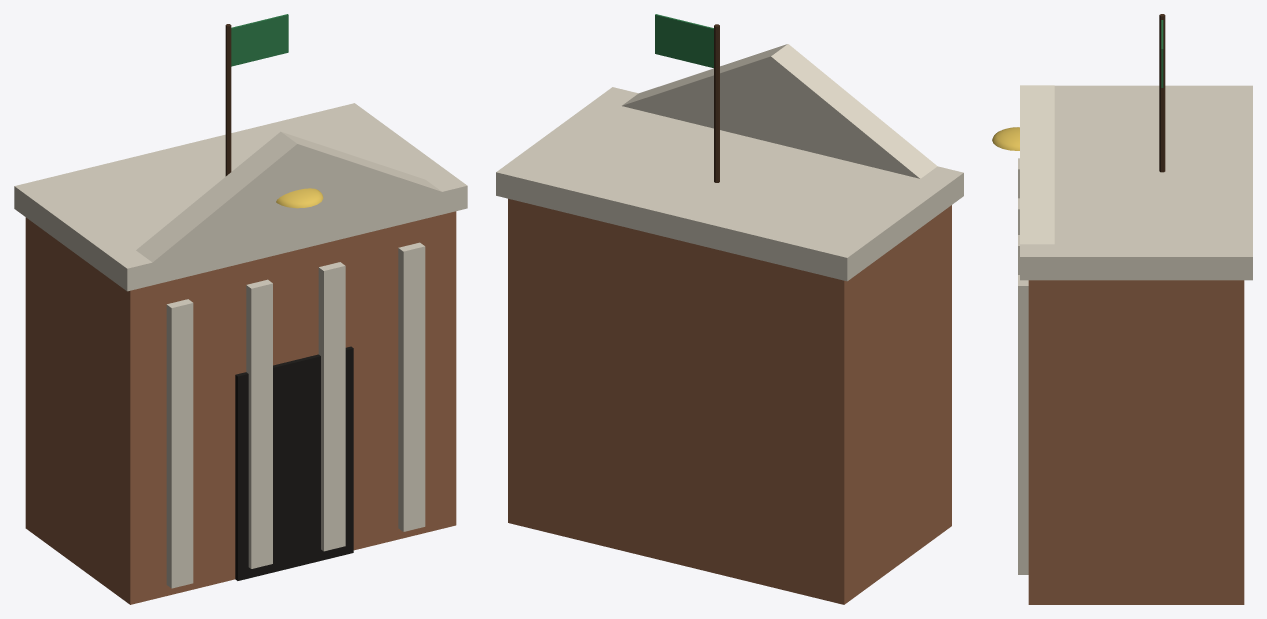
Rendered from gate.glb.
3 renders of one model, left to right at view 1: azimuth 30°, elevation 25°; view 2: azimuth 150°, elevation 25°; view 3: azimuth 270°, elevation 25°, orthographic. The views are drawn at different scales.
Parts seen in each view (by area): view 1: Gate; view 2: Gate; view 3: Gate.
Part boxes in pixels (left/top/right/bottom): Gate: left=14, top=14, right=467, bottom=604; Gate: left=496, top=14, right=963, bottom=604; Gate: left=992, top=14, right=1252, bottom=604.
Size of the model in its own units: 9.4 by 13 by 6.05.
